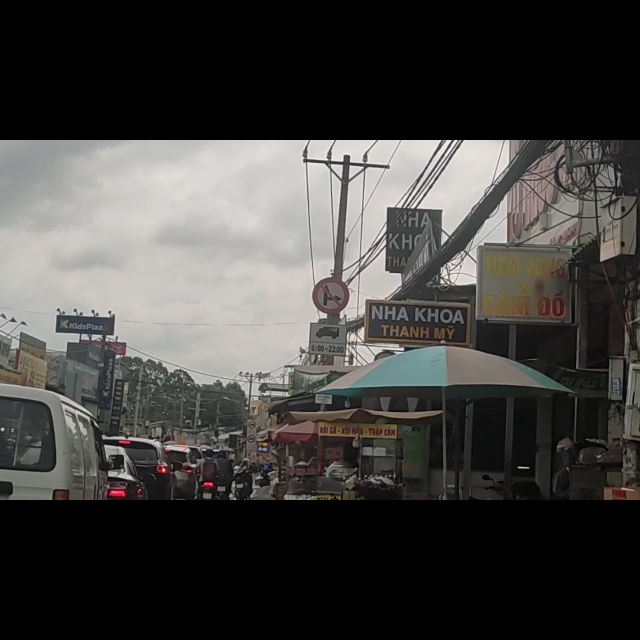bien_cam: (313, 245, 349, 309), (311, 328, 346, 382)
